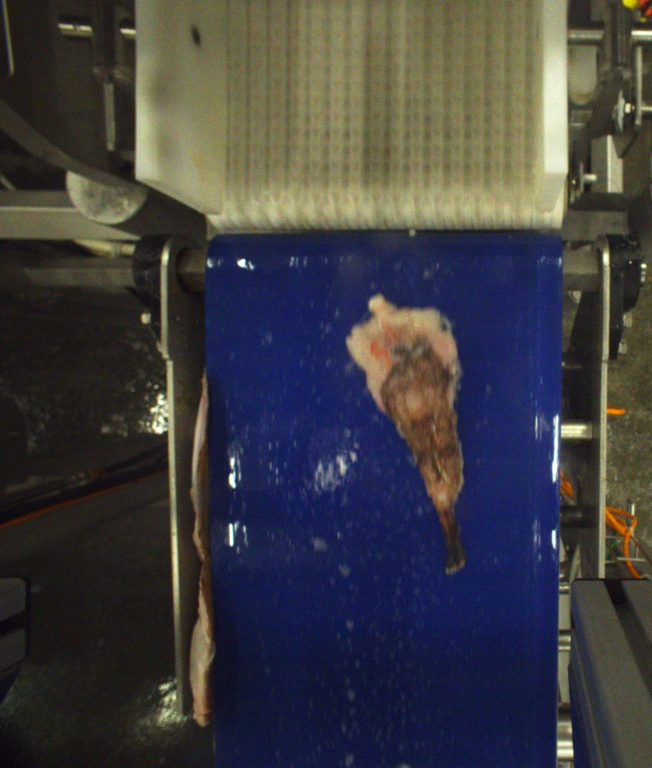ANF: (343, 292, 468, 578)
